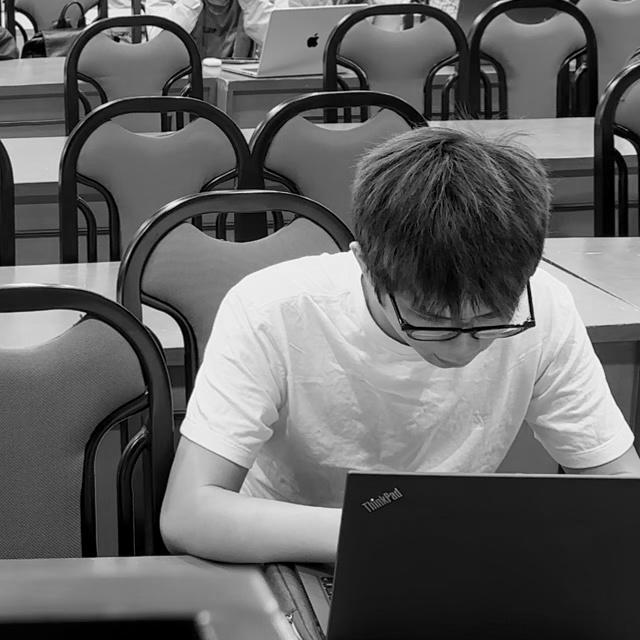Looking away: (366, 278, 534, 370)
